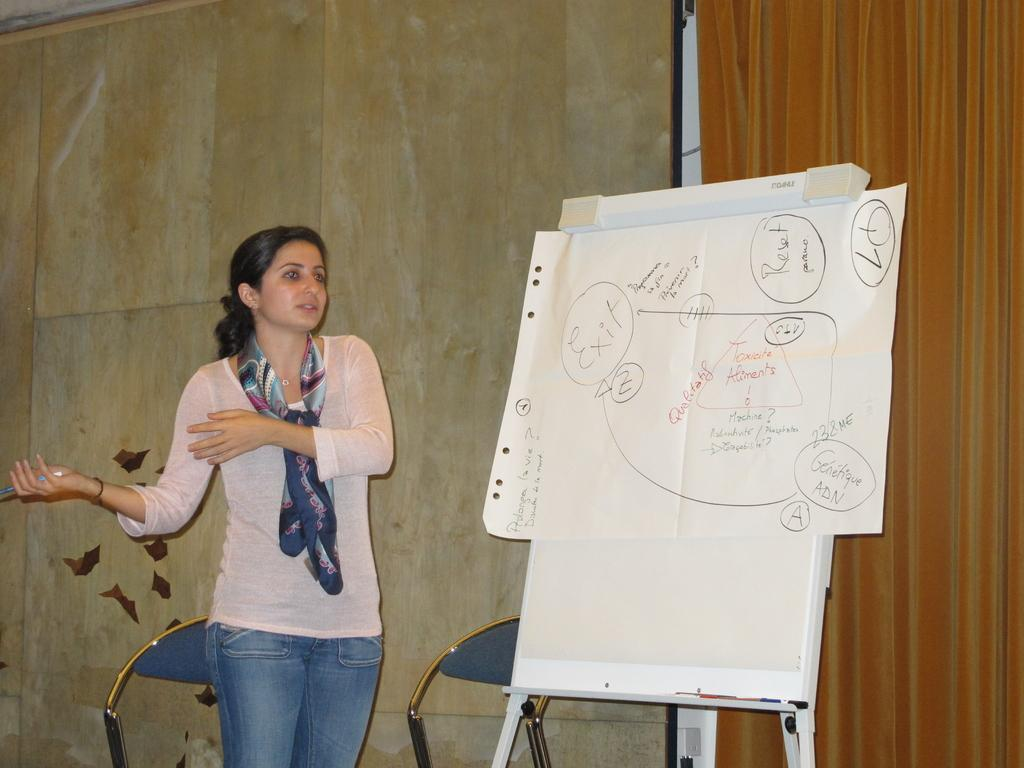Chair: (103, 615, 220, 767)
